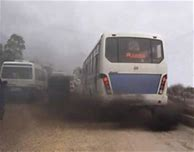smoke: (48, 88, 183, 133)
